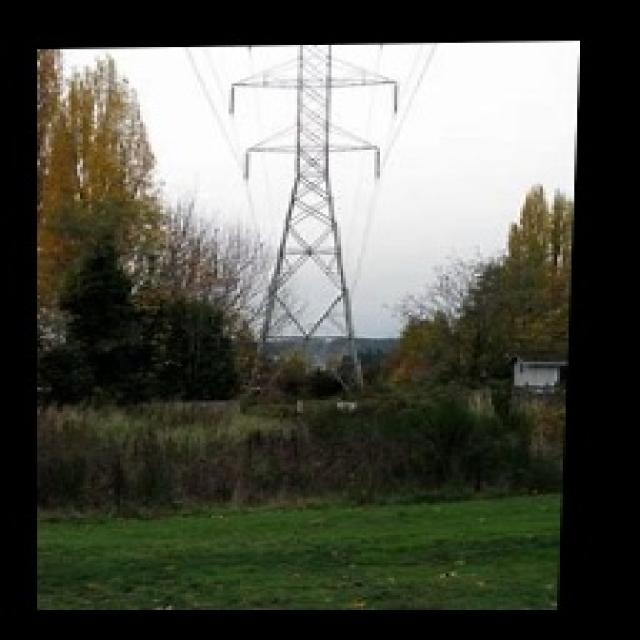utility poles: (173, 277, 302, 407), (325, 318, 492, 410)
